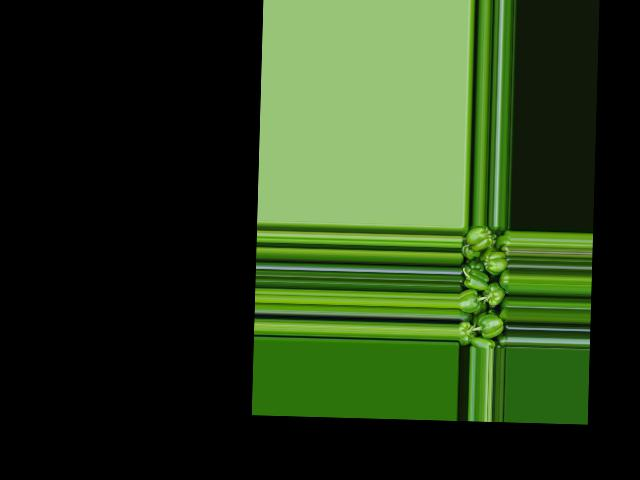bell_pepper: (459, 225, 510, 347)
